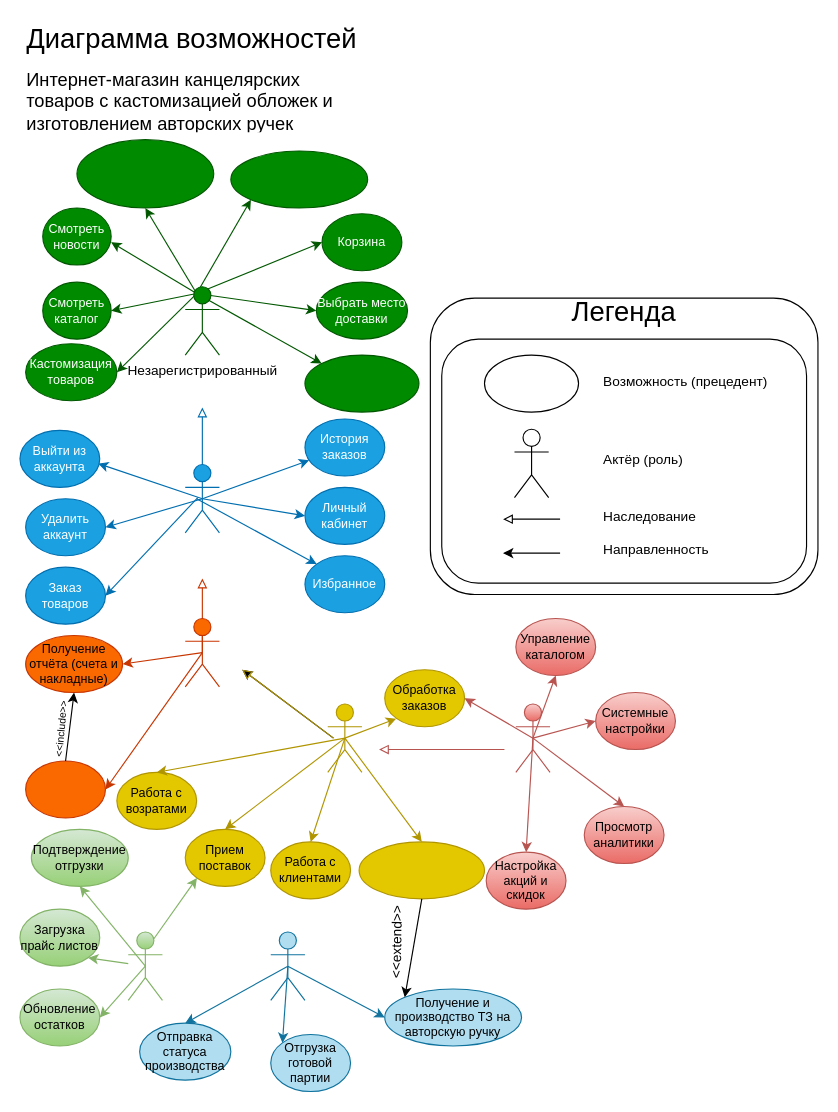
Some shapes in this 838 by 1112 pixel diagram are drawn without their labels. The shapes that lost their labels are listed below. From the top down, each one's centre as x and y in pixels, then its label:
(x=145, y=173): Подписаться на уведомления (поступление товара, скидки и т.д.)
(x=299, y=179): Войти или Зарегистрироваться
(x=361, y=383): Выбрать язык (по умолчанию Русский)
(x=201, y=498): З арегистрированный пользователь (физлицо)
(x=201, y=652): З арегистрированный пользователь (юрлицо)
(x=344, y=737): Продавец / Менеджер
(x=532, y=737): Администратор
(x=65, y=789): Оптовые заказы
(x=421, y=870): Подтверждение кастомизации ручки
(x=144, y=965): Поставщик
(x=287, y=965): Производитель ручек
